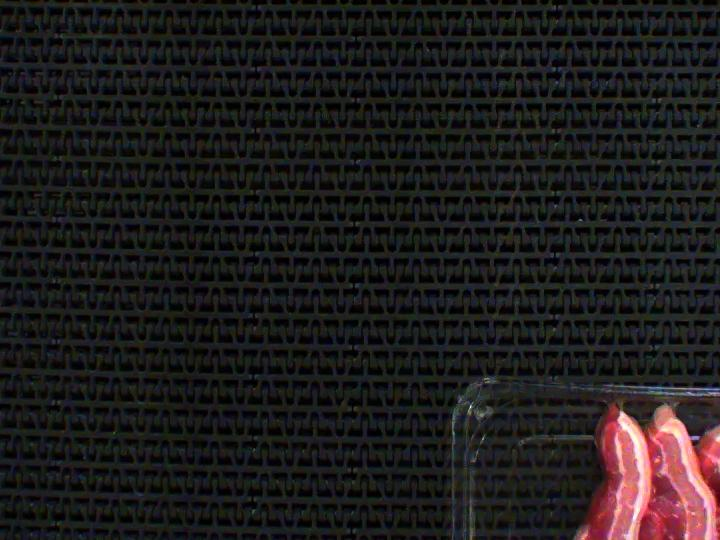packaging-error: (649, 396, 682, 418)
